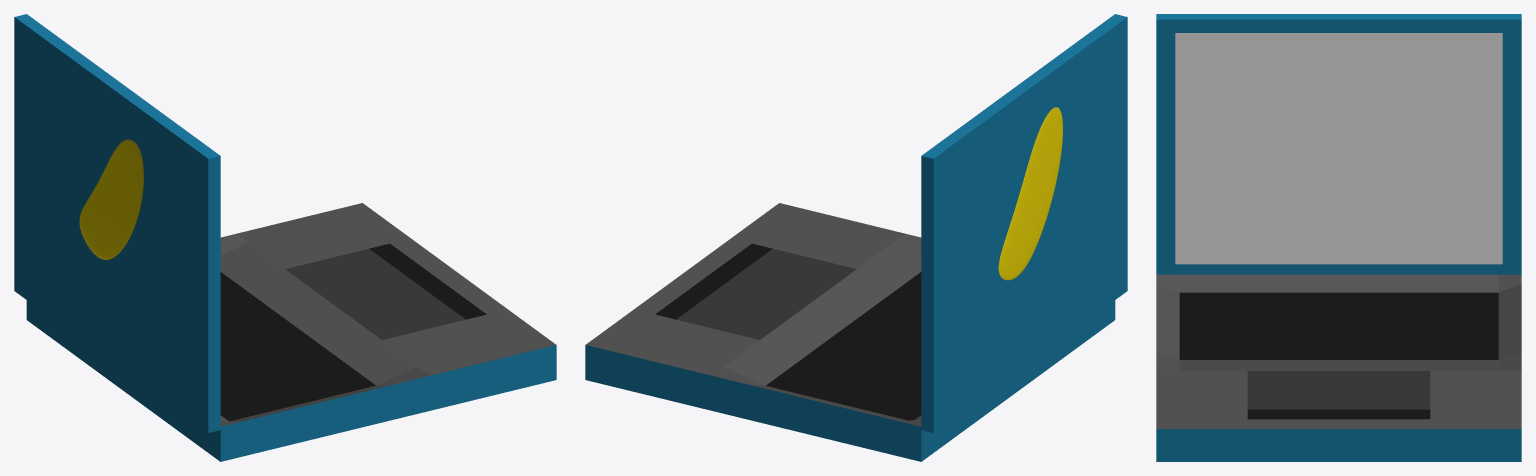
File: Laptop.fbx
3 renders of one model, left to right at view 1: azimuth 30°, elevation 25°; view 2: azimuth 150°, elevation 25°; view 3: azimuth 270°, elevation 25°, orthographic. The views are drawn at different scales.
Visible parts, largest first — view 1: Cube, Cube.001, Cube.002; view 2: Cube, Cube.001, Cube.002; view 3: Cube.001, Cube.
Part boxes in pixels (bbox=[...]): Cube: bbox=[26, 203, 556, 461]; Cube.001: bbox=[14, 14, 220, 432]; Cube.002: bbox=[79, 139, 143, 259]; Cube: bbox=[585, 203, 1115, 461]; Cube.001: bbox=[921, 14, 1127, 432]; Cube.002: bbox=[998, 107, 1062, 280]; Cube.001: bbox=[1156, 14, 1521, 274]; Cube: bbox=[1156, 274, 1521, 461].
Bounding box in the file's own units: 208 × 174 × 200.
